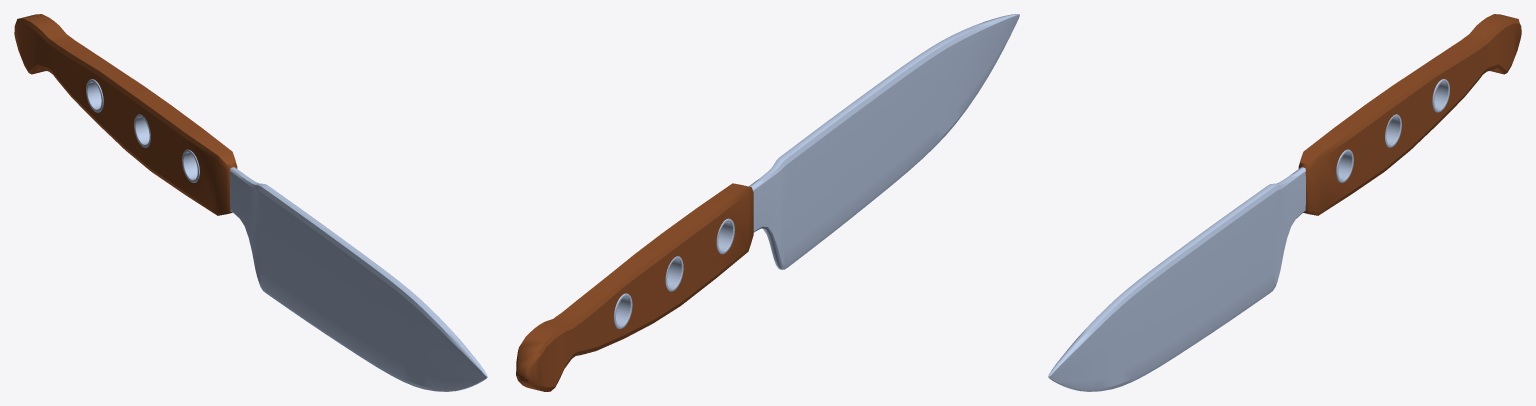
File: knife.fbx
3 views of the same model, side by side, from view 1: azimuth 30°, elevation 25°; view 2: azimuth 150°, elevation 25°; view 3: azimuth 330°, elevation 25° (orthographic). The views are drawn at different scales.
Parts seen in each view (by area): view 1: Cube.001; view 2: Cube.001; view 3: Cube.001.
Boxes of the visible parts, x1=… form: Cube.001: x1=14, y1=14, x2=487, y2=391; Cube.001: x1=516, y1=14, x2=1019, y2=391; Cube.001: x1=1048, y1=14, x2=1521, y2=391.
Bounding box in the file's own units: 46.26 × 202 × 1572.
